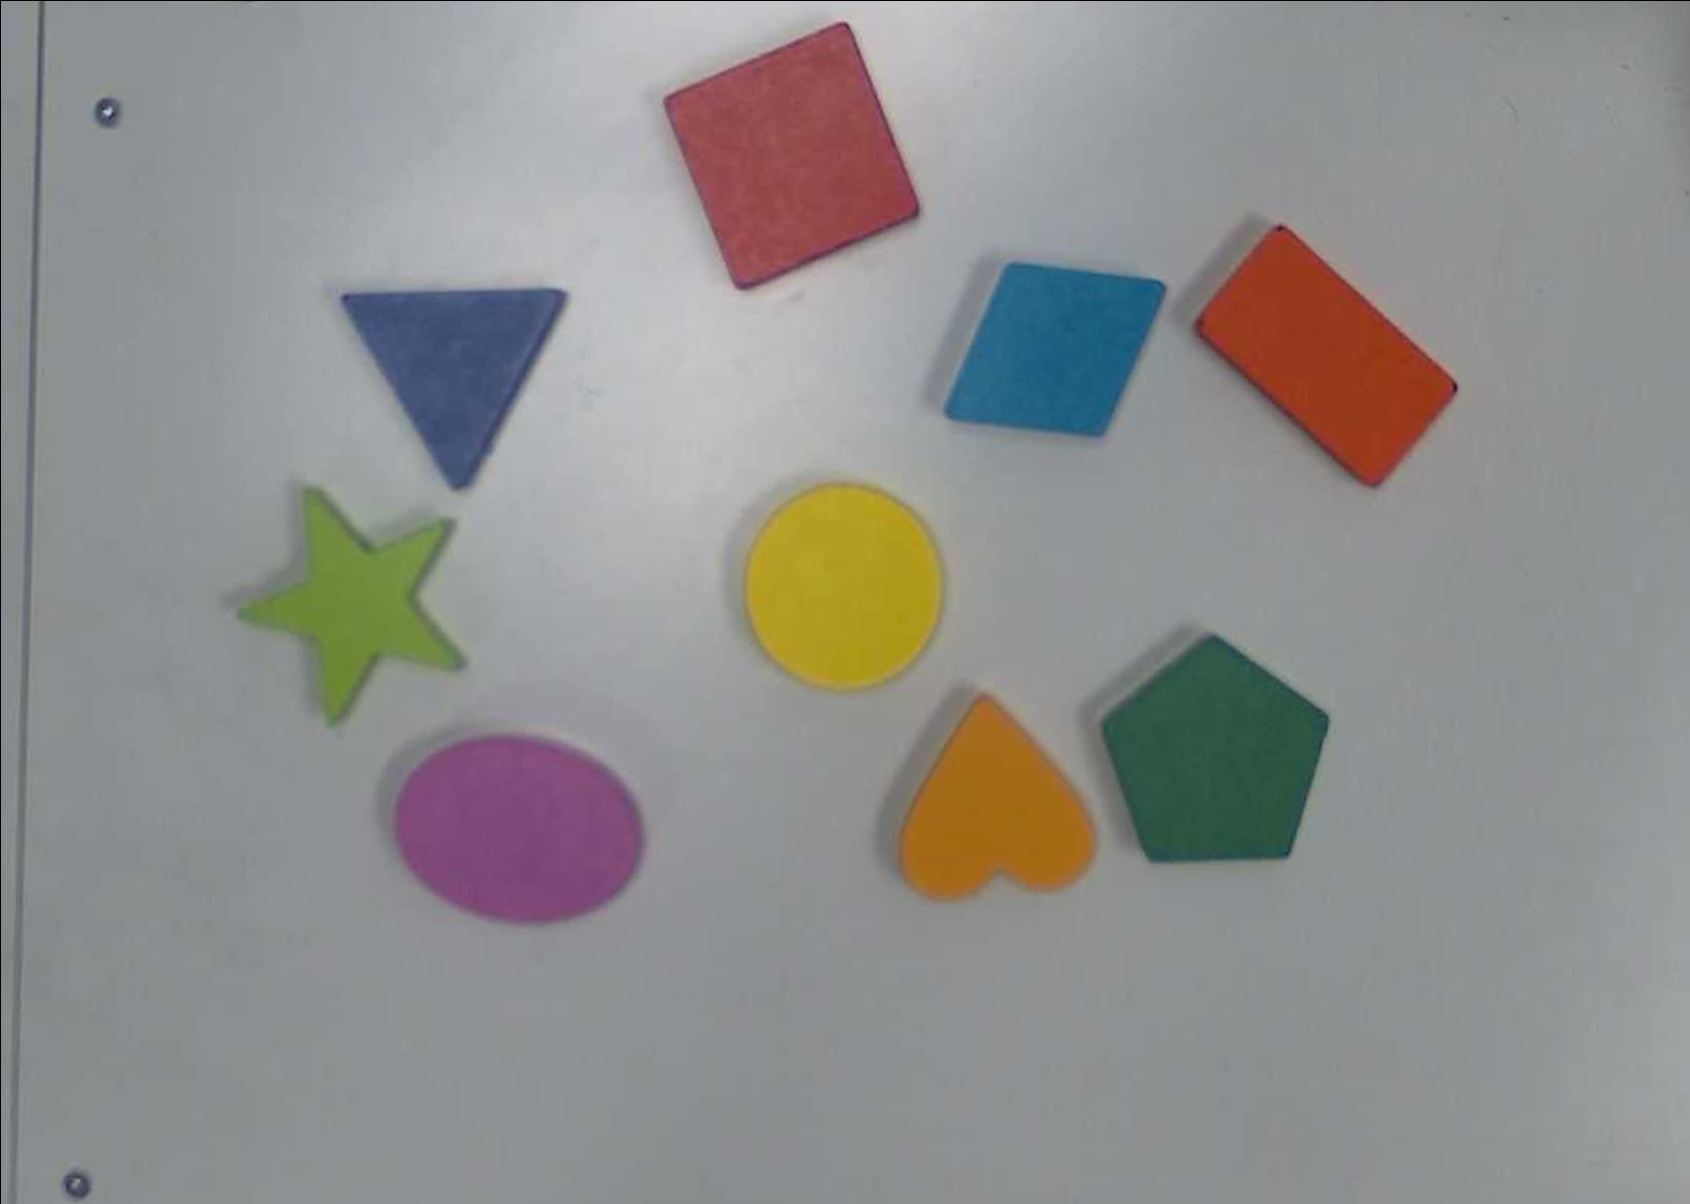Circle: (740, 480, 947, 689)
Ellipse: (388, 728, 650, 932)
Heart: (896, 688, 1102, 904)
Parallelogram: (937, 255, 1170, 446)
Pentagon: (1096, 625, 1334, 869)
Rectangle: (1190, 222, 1470, 493)
Square: (665, 20, 925, 294)
Star: (228, 485, 472, 728)
Triangle: (340, 287, 575, 491)
